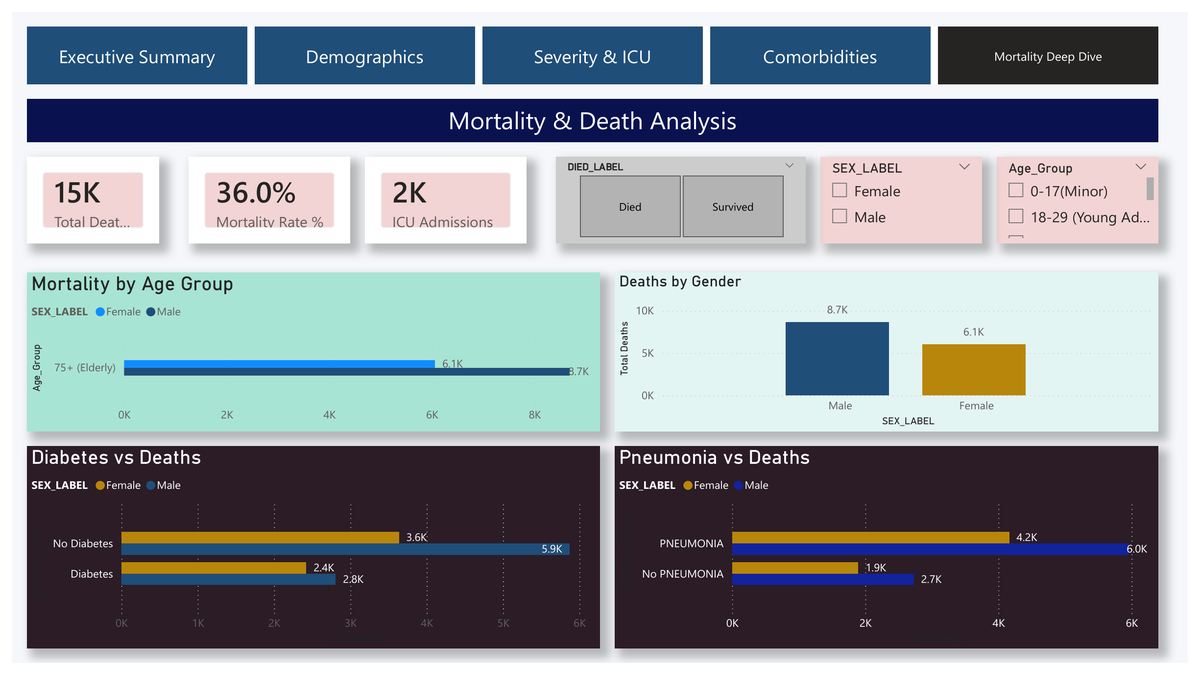

What the dashboard file says about the page in this screenshot:
{"tool":"powerbi","page":{"name":"Mortality Deep Dive","canvas":[1280,720],"ordinal":4},"visuals":[{"type":"textbox","box":[16,96,1232,48],"z":0},{"type":"clusteredBarChart","title":"Mortality by Age Group","fields":{"Category":["Covid Data.Age_Group"],"Y":["_Measures.Total Deaths"],"Series":["Covid Data.SEX_LABEL"]},"box":[16,288,624,176],"z":1000},{"type":"clusteredColumnChart","title":"Deaths by Gender","fields":{"Category":["Covid Data.SEX_LABEL"],"Y":["_Measures.Total Deaths"]},"box":[656,288,592,176],"z":2000},{"type":"clusteredBarChart","title":"Diabetes vs Deaths","fields":{"Category":["Covid Data.DIABETES_LABEL"],"Y":["_Measures.Total Deaths"],"Series":["Covid Data.SEX_LABEL"]},"box":[16,480,624,224],"z":3000},{"type":"clusteredBarChart","title":"Pneumonia vs Deaths","fields":{"Category":["Covid Data.PNEUMONIA_LABEL"],"Y":["_Measures.Total Deaths"],"Series":["Covid Data.SEX_LABEL"]},"box":[656,480,592,224],"z":4000},{"type":"slicer","fields":{"Values":["Covid Data.Age_Group"]},"box":[1072,160,176,96],"z":5000},{"type":"slicer","fields":{"Values":["Covid Data.SEX_LABEL"]},"box":[880,160,176,96],"z":6000},{"type":"cardVisual","fields":{"Data":["_Measures.Total Deaths"]},"box":[16,160,144,96],"z":7000},{"type":"cardVisual","fields":{"Data":["_Measures.Mortality Rate %"]},"box":[192,160,176,96],"z":8000},{"type":"cardVisual","fields":{"Data":["_Measures.ICU Admissions"]},"box":[384,160,176,96],"z":9000},{"type":"pageNavigator","box":[16,16,1232,64],"z":10000},{"type":"slicer","fields":{"Values":["Covid Data.DIED_LABEL"]},"box":[592,160,272,96],"z":11000}]}

Visuals, with their boxes in screenshot pixels (x1, y1, x2, y2), scaled from the page's 1280x720 canvas onto the 1200x675 screenshot:
textbox: 15:90:1170:135
"Mortality by Age Group" clusteredBarChart: 15:270:600:435
"Deaths by Gender" clusteredColumnChart: 615:270:1170:435
"Diabetes vs Deaths" clusteredBarChart: 15:450:600:660
"Pneumonia vs Deaths" clusteredBarChart: 615:450:1170:660
slicer - Covid Data.Age_Group: 1005:150:1170:240
slicer - Covid Data.SEX_LABEL: 825:150:990:240
cardVisual - _Measures.Total Deaths: 15:150:150:240
cardVisual - _Measures.Mortality Rate %: 180:150:345:240
cardVisual - _Measures.ICU Admissions: 360:150:525:240
pageNavigator: 15:15:1170:75
slicer - Covid Data.DIED_LABEL: 555:150:810:240
